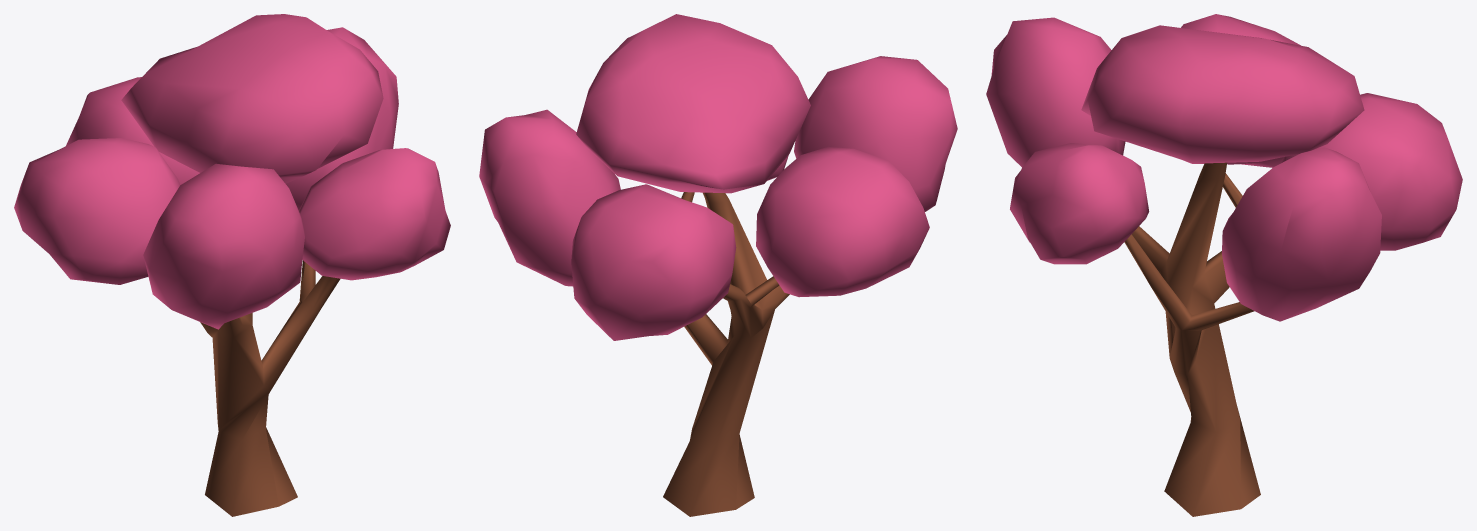
The model's file is Tree_1.fbx.
3 renders of one model, left to right at view 1: azimuth 30°, elevation 25°; view 2: azimuth 150°, elevation 25°; view 3: azimuth 270°, elevation 25°, orthographic. The views are drawn at different scales.
Parts seen in each view (by area): view 1: Tree_1; view 2: Tree_1; view 3: Tree_1.
Part boxes in pixels (x1,y1,x2,y2): Tree_1: [14, 14, 450, 516]; Tree_1: [479, 14, 957, 516]; Tree_1: [986, 14, 1462, 516].
Size of the model in its own units: 629 by 704 by 644.
